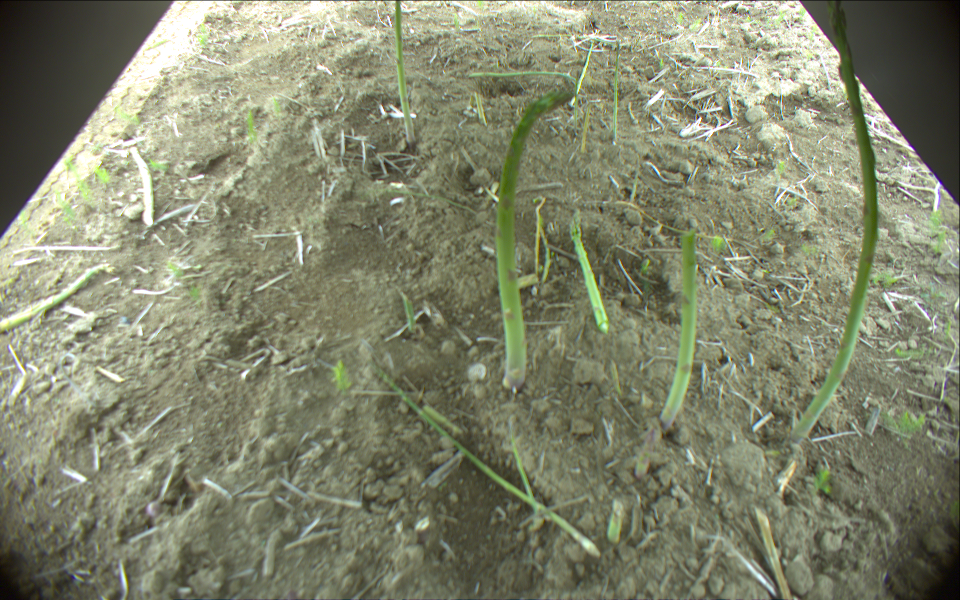aspa: (365, 363, 597, 557), (789, 1, 879, 443), (500, 82, 571, 389), (657, 229, 700, 432), (1, 264, 111, 335), (570, 225, 608, 334), (394, 1, 416, 144), (130, 146, 154, 227), (568, 40, 594, 108), (467, 69, 576, 83), (633, 420, 654, 480), (613, 38, 624, 140), (607, 501, 622, 544), (863, 404, 881, 435)
